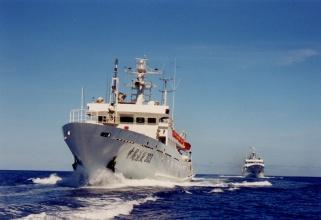warship: (55, 57, 220, 180), (237, 146, 271, 178)
